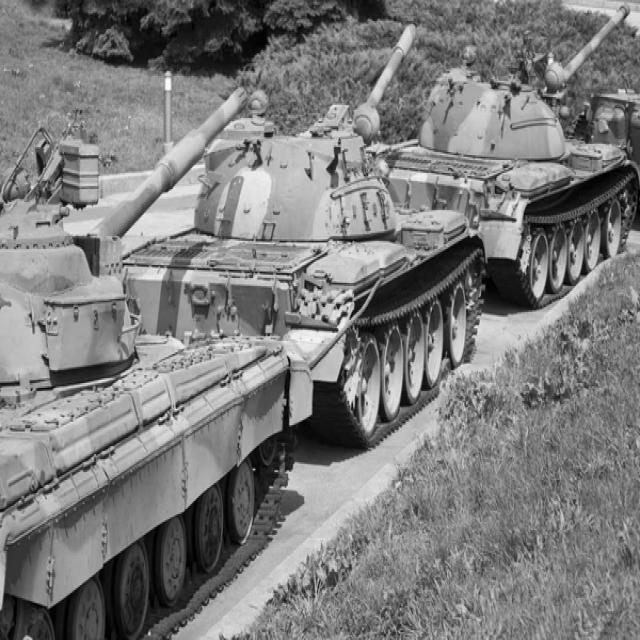Tank: (1, 80, 298, 637), (140, 21, 492, 456), (380, 9, 636, 307)
